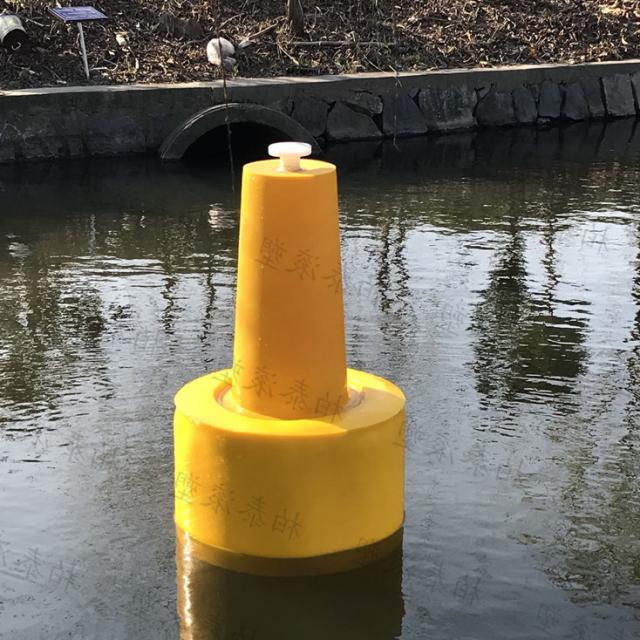buoy: (170, 136, 416, 574)
